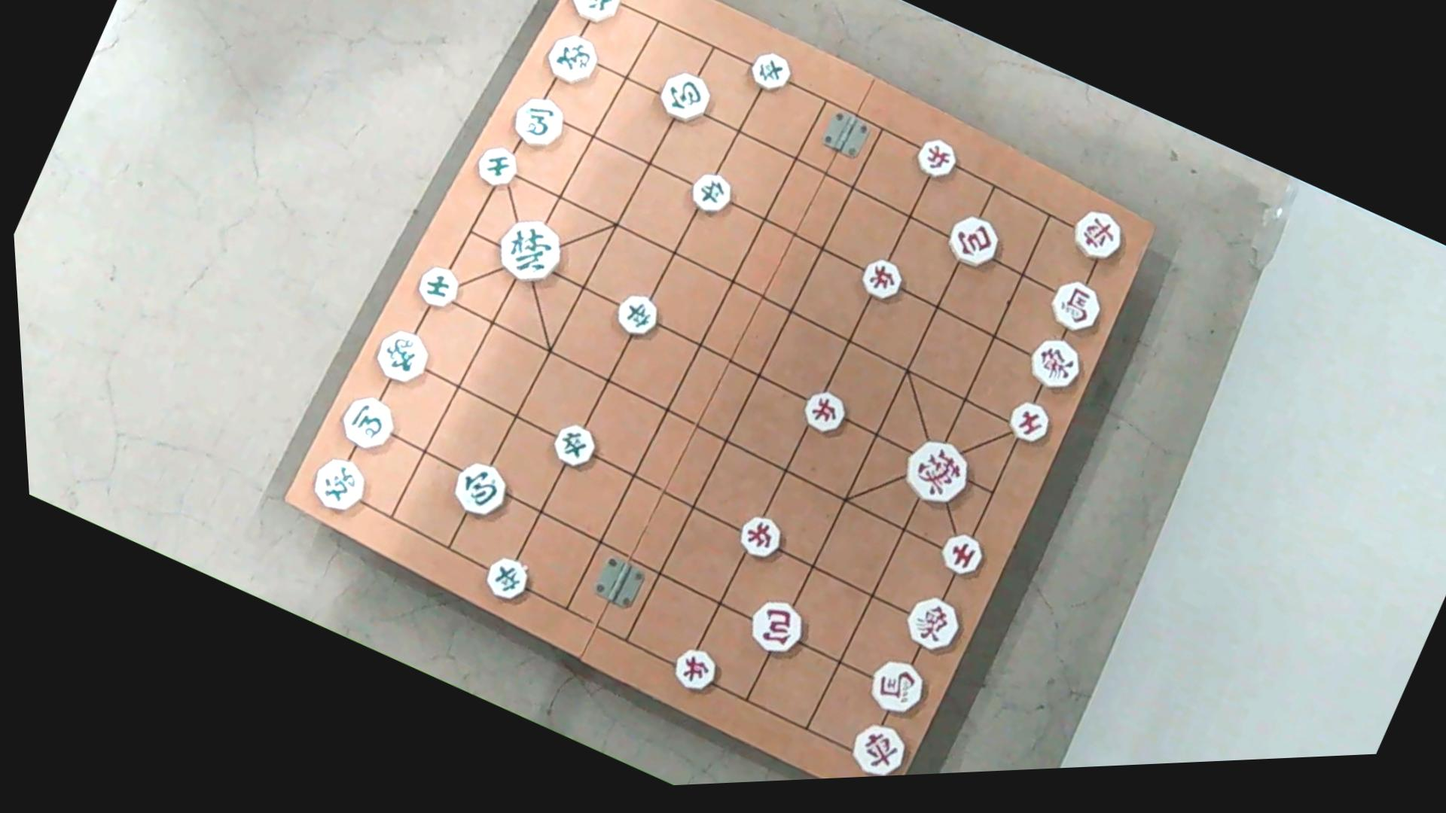cha_green: (305, 452, 378, 522), (560, 0, 628, 32)
cha_red: (840, 717, 915, 778), (1065, 206, 1132, 268)
jol_green: (477, 552, 538, 607), (548, 422, 606, 476), (609, 291, 667, 344), (684, 168, 740, 220), (743, 47, 797, 97)
jol_red: (667, 646, 725, 702), (733, 510, 791, 565), (795, 389, 853, 443), (855, 256, 911, 308), (909, 136, 962, 185)
ma_green: (334, 388, 405, 456), (504, 89, 573, 154)
ma_red: (861, 653, 932, 721), (1041, 276, 1111, 343)
po_green: (442, 455, 514, 523), (652, 66, 718, 128)
po_red: (740, 594, 813, 662), (943, 212, 1011, 276)
sa_green: (411, 261, 467, 313), (468, 141, 523, 192)
sa_red: (999, 393, 1057, 451), (933, 526, 990, 580)
sang_green: (368, 321, 440, 390), (539, 23, 609, 90)
sang_red: (1017, 330, 1090, 403), (898, 591, 966, 659)
wang_green: (490, 212, 572, 290)
wang_red: (892, 429, 981, 514)
